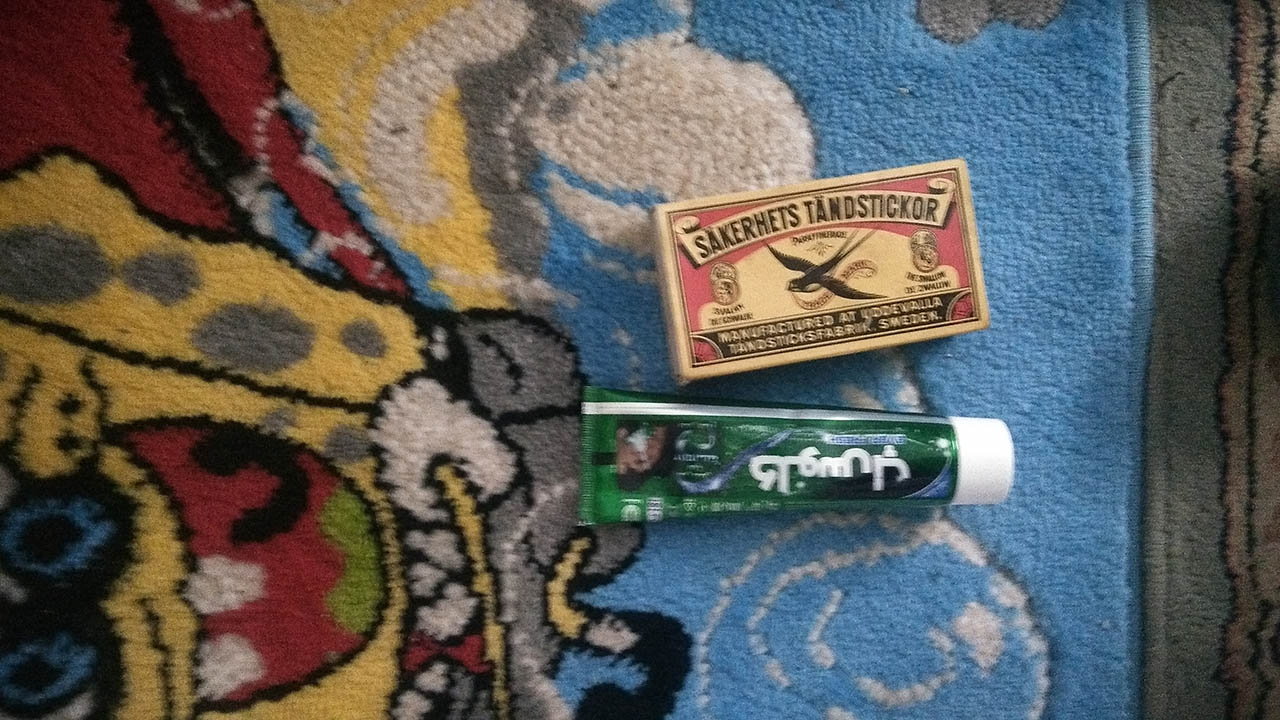Toothpaste-Closeup 3.04$: (570, 394, 1016, 515)
match-sticks .90$: (661, 166, 1033, 380)
